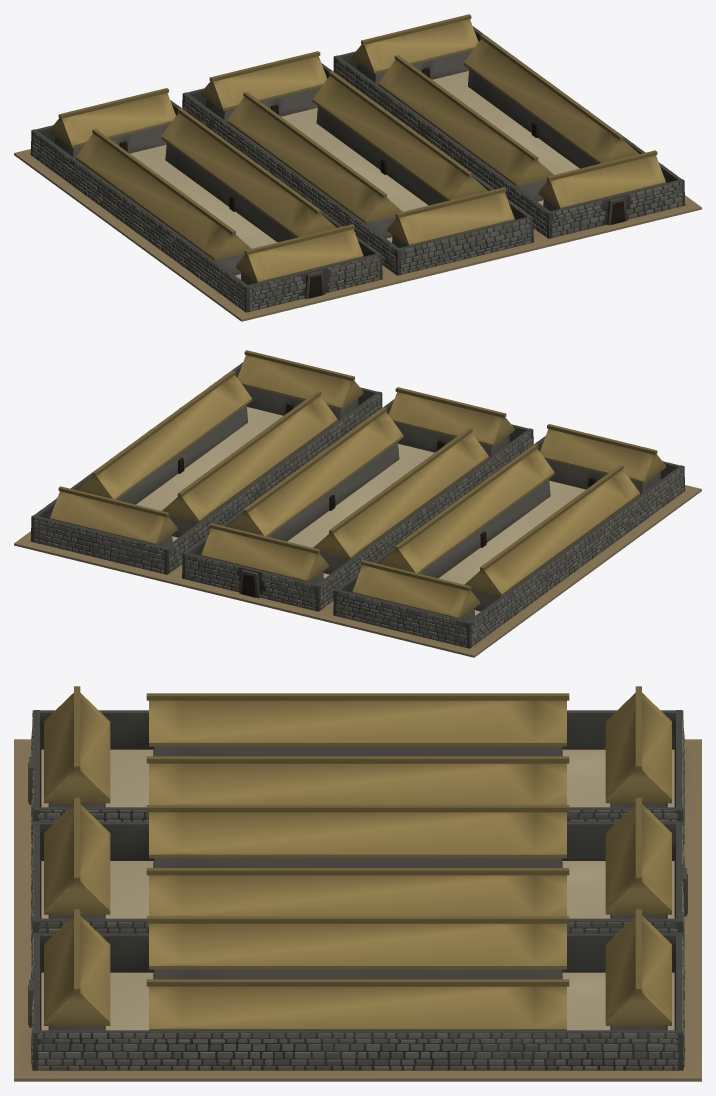
Rendered from kusicancha.glb.
3 views of the same model, one above another, from view 1: azimuth 30°, elevation 25°; view 2: azimuth 150°, elevation 25°; view 3: azimuth 270°, elevation 25° (orthographic). The views are drawn at different scales.
Parts seen in each view (by area): view 1: p2_roofs, p1_walls, p0_ground; view 2: p2_roofs, p1_walls, p0_ground; view 3: p2_roofs, p1_walls, p0_ground.
Part boxes in pixels (bbox=[...]): p2_roofs: bbox=[50, 14, 665, 282]; p1_walls: bbox=[30, 26, 685, 312]; p0_ground: bbox=[14, 149, 701, 321]; p2_roofs: bbox=[50, 350, 665, 618]; p1_walls: bbox=[30, 362, 685, 648]; p0_ground: bbox=[14, 485, 701, 657]; p2_roofs: bbox=[44, 686, 671, 1030]; p1_walls: bbox=[28, 710, 687, 1070]; p0_ground: bbox=[14, 739, 701, 1081].
Bounding box in the file's own units: 70 × 7.15 × 60.
